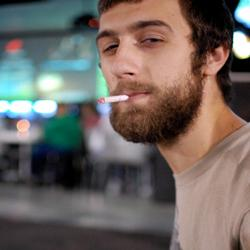smoking: (97, 86, 154, 105)
